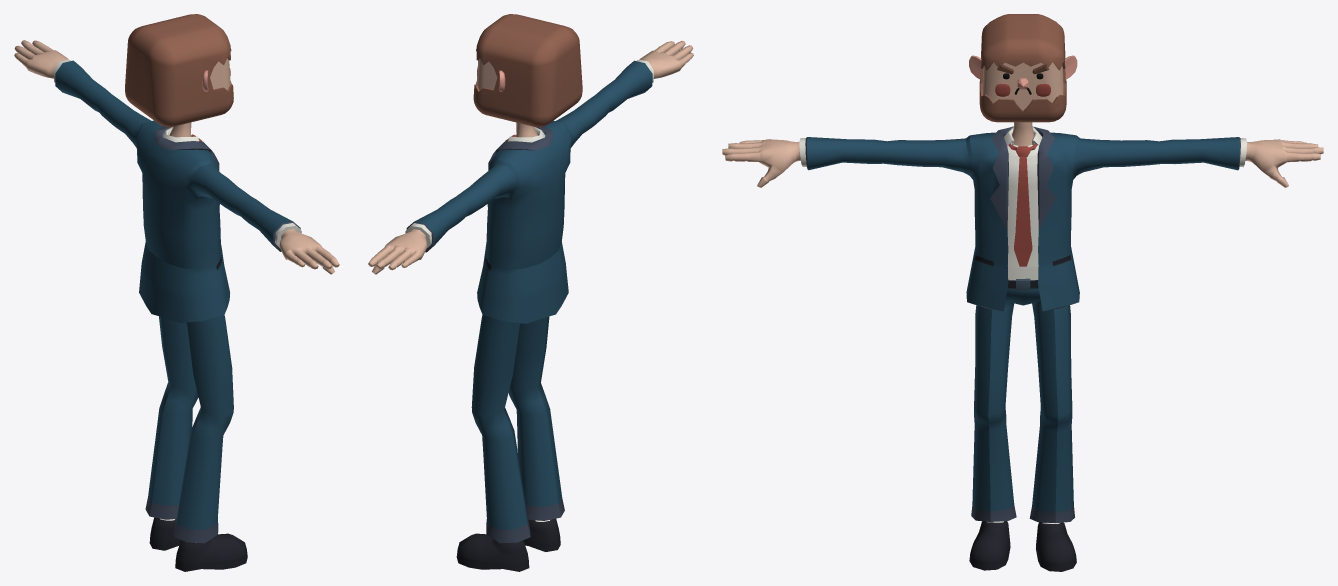
Rendered from Business Dude.glb.
3 views of the same model, side by side, from view 1: azimuth 30°, elevation 25°; view 2: azimuth 150°, elevation 25°; view 3: azimuth 270°, elevation 25° (orthographic).
Visible parts, largest first — view 1: _100Avatars_102_BizDude; view 2: _100Avatars_102_BizDude; view 3: _100Avatars_102_BizDude.
Boxes of the visible parts, left/top/right/bottom form: _100Avatars_102_BizDude: left=14, top=14, right=339, bottom=571; _100Avatars_102_BizDude: left=368, top=14, right=693, bottom=571; _100Avatars_102_BizDude: left=722, top=14, right=1323, bottom=571.
Bounding box in the file's own units: 0.8233 × 4.57 × 4.79.
1 material, 1 textured.
